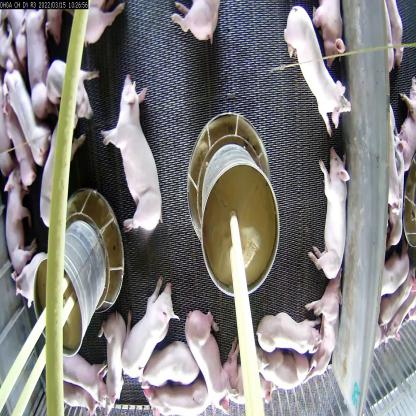Pig: (100, 72, 168, 238), (281, 13, 347, 132), (182, 293, 240, 402), (308, 142, 350, 288), (3, 53, 55, 169), (34, 122, 89, 229), (124, 278, 178, 383), (217, 332, 278, 414), (160, 0, 228, 56), (54, 342, 109, 411), (41, 59, 102, 121), (0, 164, 32, 280), (25, 10, 60, 116), (250, 310, 320, 361), (310, 278, 340, 388), (138, 336, 199, 389), (145, 373, 217, 415), (253, 349, 318, 391), (104, 298, 132, 392)
